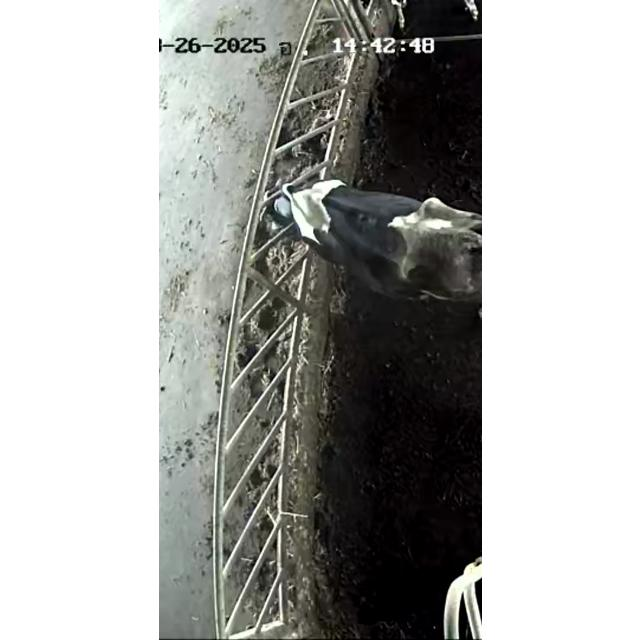eat: (228, 165, 356, 255)
